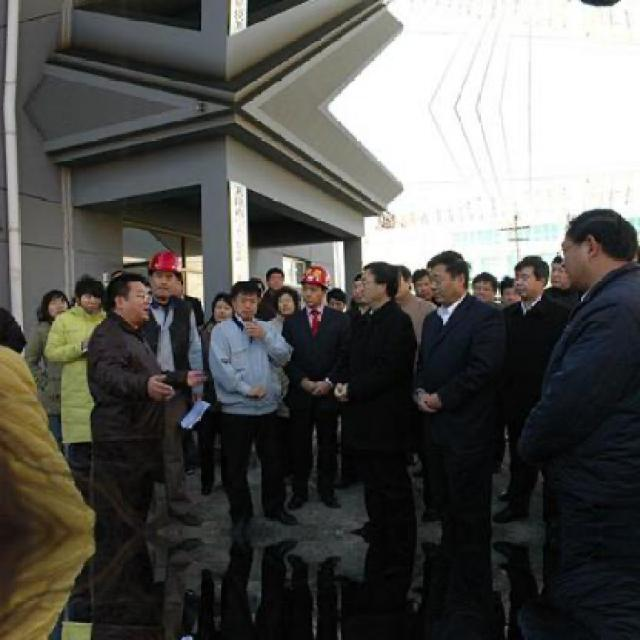helmet: (148, 248, 184, 297), (300, 262, 328, 300)
